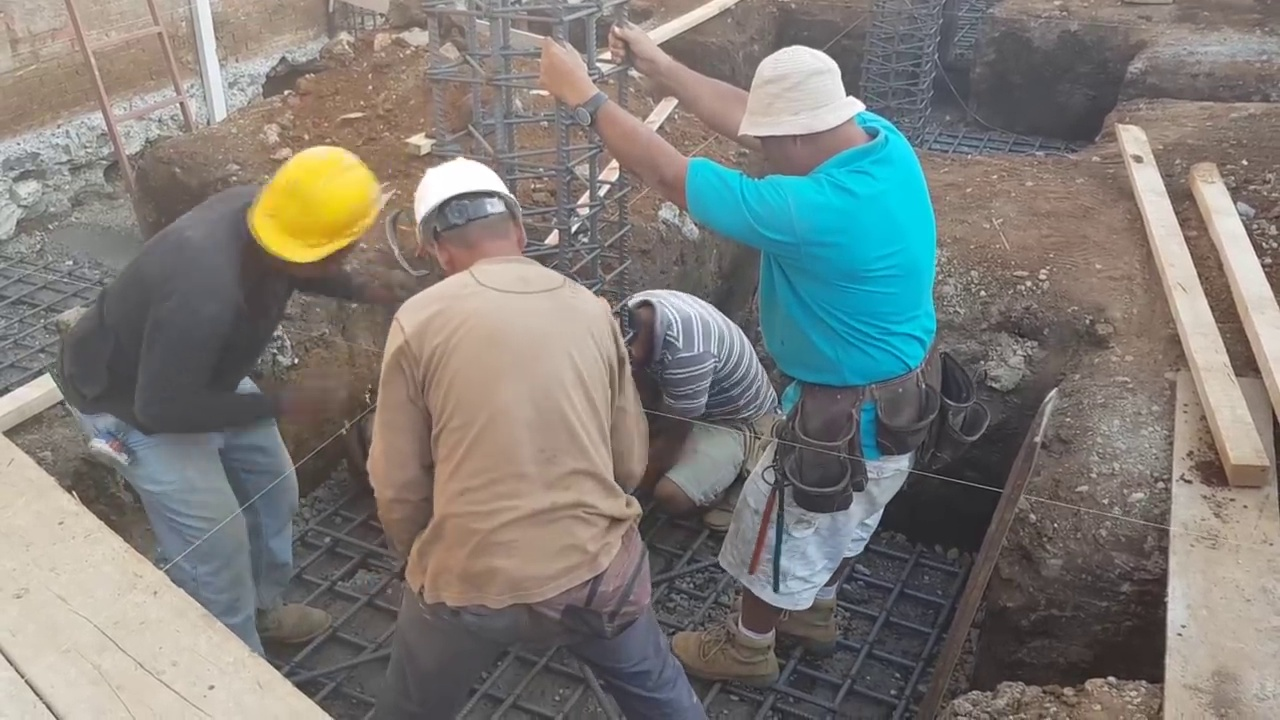helmet: (244, 142, 387, 267), (411, 159, 524, 233)
helmet-off: (735, 44, 884, 177)
helmet-on: (242, 142, 386, 281), (410, 158, 529, 278)
person: (537, 20, 936, 689), (367, 158, 709, 719), (52, 141, 387, 658), (618, 284, 782, 513)
